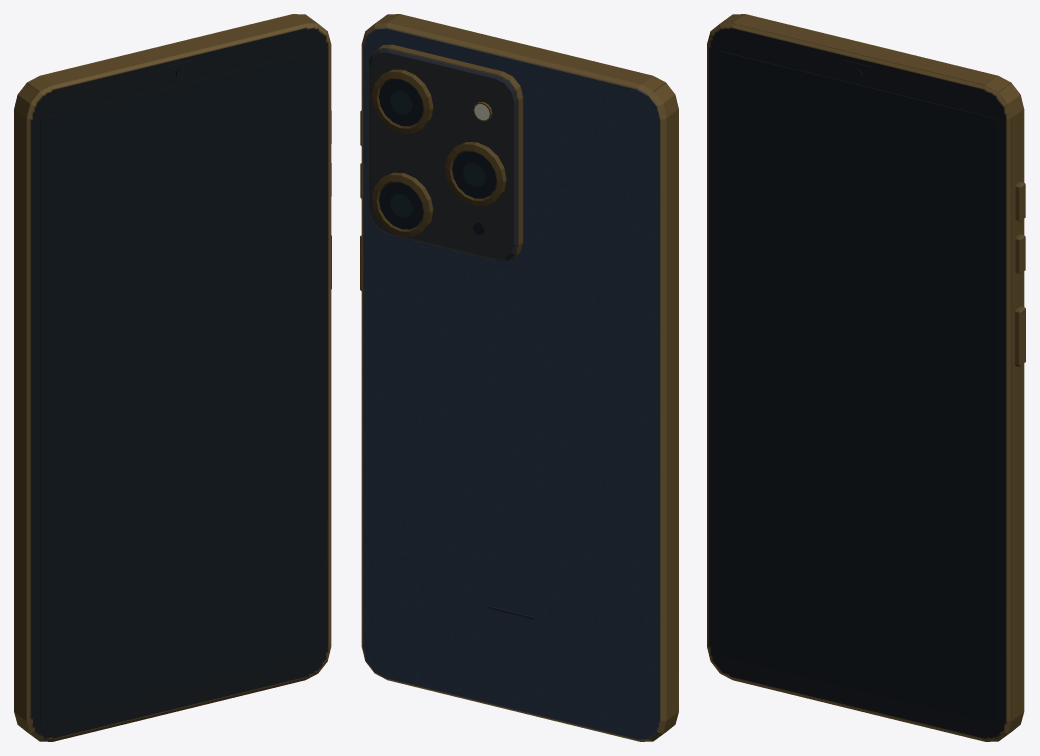
3 renders of one model, left to right at view 1: azimuth 30°, elevation 25°; view 2: azimuth 150°, elevation 25°; view 3: azimuth 330°, elevation 25°, orthographic.
Visible parts, largest first — view 1: phone_screen, Phone_Body; view 2: Phone_Body, Camera_Bump, Camera_Rings, Camera_Lens_01, Camera_Lens_02, Camera_Lens_03; view 3: phone_screen, Phone_Body, Volume_Buttons, Power_Button.
Part boxes in pixels (bbox=[...]): phone_screen: bbox=[40, 50, 320, 723]; Phone_Body: bbox=[14, 14, 331, 741]; Phone_Body: bbox=[361, 14, 678, 741]; Camera_Bump: bbox=[368, 44, 523, 261]; Camera_Rings: bbox=[372, 69, 506, 236]; Camera_Lens_01: bbox=[379, 79, 423, 126]; Camera_Lens_02: bbox=[452, 151, 496, 198]; Camera_Lens_03: bbox=[379, 182, 423, 229]; phone_screen: bbox=[717, 50, 997, 723]; Phone_Body: bbox=[707, 14, 1024, 741]; Volume_Buttons: bbox=[1015, 181, 1025, 274]; Power_Button: bbox=[1015, 306, 1025, 366].
Size of the model in its own units: 0.986 by 2 by 0.154.
Materials: 11 (10 with a texture image).
